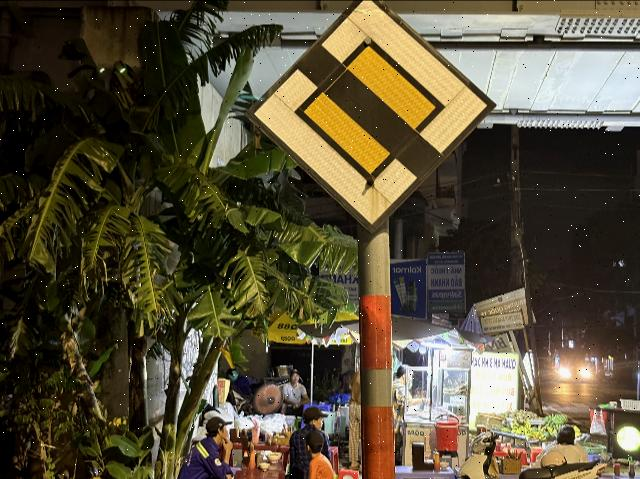het-duong-uu-tien: (244, 0, 496, 234)
